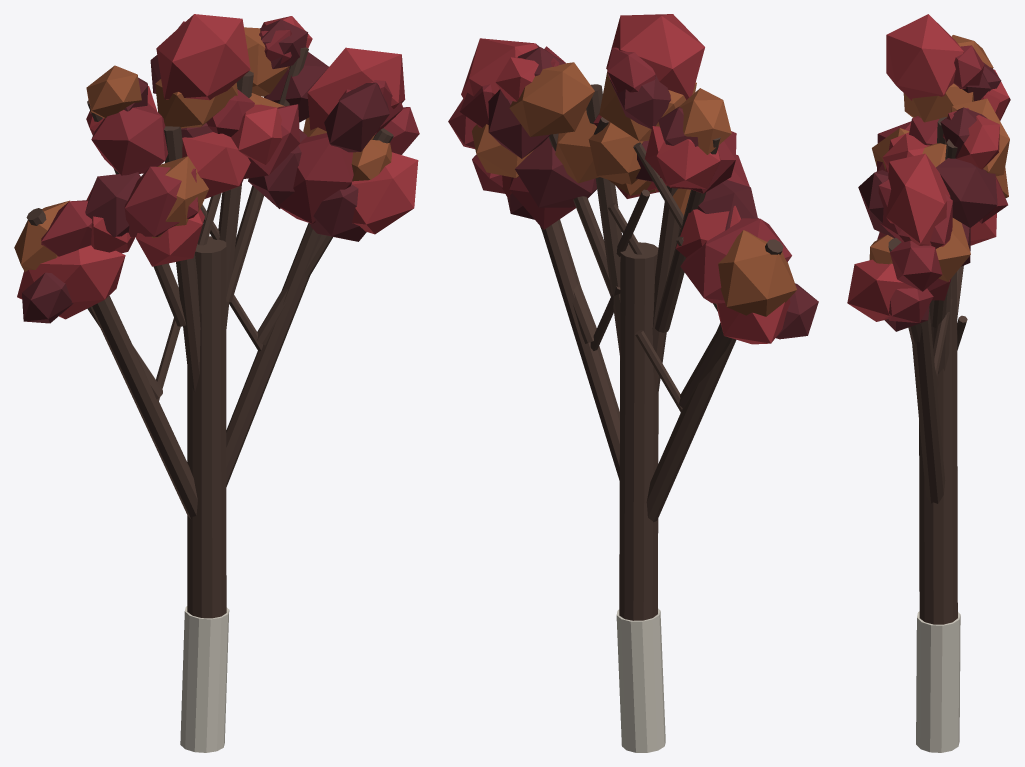
The model's file is autumn-tree.glb.
3 views of the same model, side by side, from view 1: azimuth 30°, elevation 25°; view 2: azimuth 150°, elevation 25°; view 3: azimuth 270°, elevation 25° (orthographic).
Visible parts, largest first — view 1: MainTrunk, LeafCluster_06_03, WhitewashedLowerTrunk, Branch_0, Branch_1, LeafCluster_08_01, LeafCluster_05_03, LeafCluster_00_01, LeafCluster_04_00, LeafCluster_04_01, LeafCluster_01_03, LeafCluster_08_03 (+25 smaller); view 2: MainTrunk, WhitewashedLowerTrunk, LeafCluster_06_03, LeafCluster_00_02, LeafCluster_07_03, Branch_1, Branch_0, LeafCluster_03_00, LeafCluster_00_00, Branch_3, LeafCluster_02_00, LeafCluster_05_04 (+27 smaller); view 3: MainTrunk, WhitewashedLowerTrunk, LeafCluster_06_03, LeafCluster_08_01, Branch_1, LeafCluster_07_04, LeafCluster_04_01, LeafCluster_08_00, LeafCluster_07_02, LeafCluster_06_00, LeafCluster_04_04, LeafCluster_08_04 (+22 smaller).
Part boxes in pixels (x1=…): MainTrunk: x1=187, y1=236, x2=226, y2=618; LeafCluster_06_03: x1=156, y1=14, x2=250, y2=100; WhitewashedLowerTrunk: x1=180, y1=606, x2=229, y2=752; Branch_0: x1=90, y1=295, x2=197, y2=519; Branch_1: x1=226, y1=223, x2=321, y2=486; LeafCluster_08_01: x1=307, y1=47, x2=405, y2=130; LeafCluster_05_03: x1=91, y1=103, x2=168, y2=175; LeafCluster_00_01: x1=17, y1=245, x2=125, y2=319; LeafCluster_04_00: x1=271, y1=133, x2=353, y2=223; LeafCluster_04_01: x1=352, y1=152, x2=418, y2=234; LeafCluster_01_03: x1=124, y1=166, x2=198, y2=237; LeafCluster_08_03: x1=324, y1=82, x2=389, y2=152; MainTrunk: x1=619, y1=242, x2=658, y2=620; WhitewashedLowerTrunk: x1=616, y1=608, x2=665, y2=752; LeafCluster_06_03: x1=606, y1=14, x2=704, y2=99; LeafCluster_00_02: x1=718, y1=230, x2=796, y2=316; LeafCluster_07_03: x1=509, y1=62, x2=594, y2=136; Branch_1: x1=541, y1=219, x2=619, y2=480; Branch_0: x1=646, y1=322, x2=736, y2=522; LeafCluster_03_00: x1=515, y1=137, x2=596, y2=207; LeafCluster_00_00: x1=680, y1=218, x2=791, y2=303; Branch_3: x1=586, y1=84, x2=621, y2=356; LeafCluster_02_00: x1=588, y1=122, x2=643, y2=184; LeafCluster_05_04: x1=656, y1=139, x2=720, y2=189; MainTrunk: x1=919, y1=272, x2=957, y2=624; WhitewashedLowerTrunk: x1=916, y1=611, x2=960, y2=752; LeafCluster_06_03: x1=886, y1=14, x2=963, y2=100; LeafCluster_08_01: x1=886, y1=153, x2=950, y2=246; Branch_1: x1=912, y1=308, x2=945, y2=503; LeafCluster_07_04: x1=936, y1=158, x2=997, y2=227; LeafCluster_04_01: x1=847, y1=259, x2=927, y2=321; LeafCluster_08_00: x1=890, y1=240, x2=942, y2=291; LeafCluster_07_02: x1=955, y1=115, x2=999, y2=169; LeafCluster_06_00: x1=903, y1=83, x2=973, y2=122; LeafCluster_04_04: x1=887, y1=288, x2=933, y2=322; LeafCluster_08_04: x1=878, y1=179, x2=952, y2=248.
Bounding box in the file's own units: 9.24 × 17.32 × 3.54.
